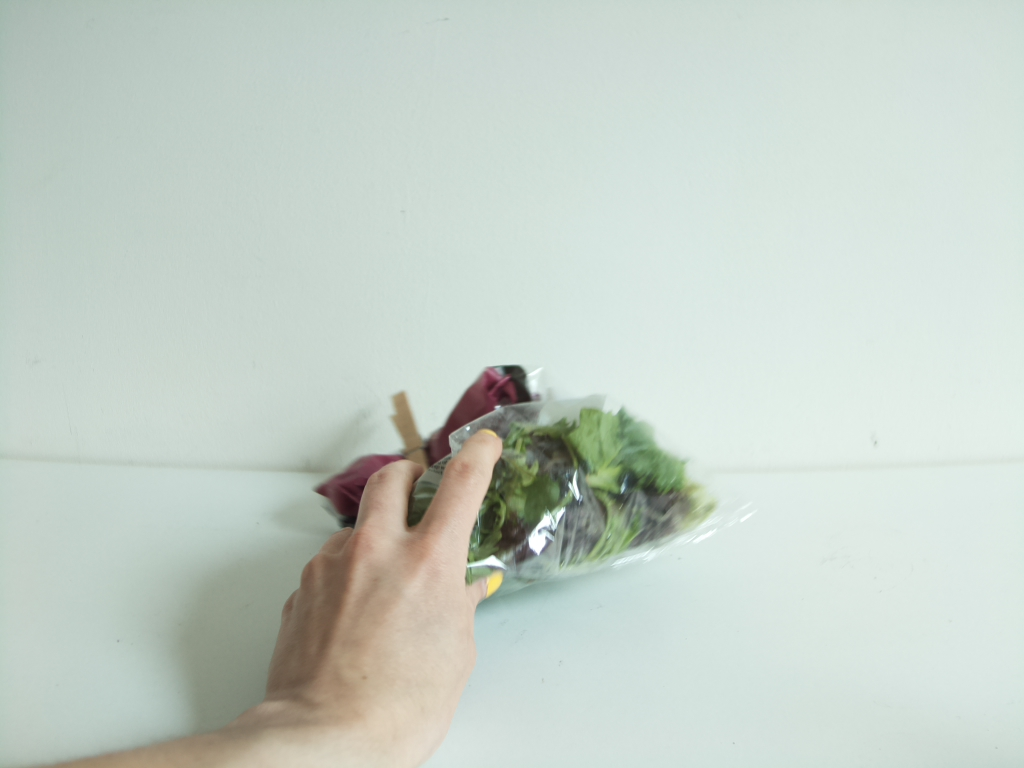salad: (322, 368, 719, 614)
